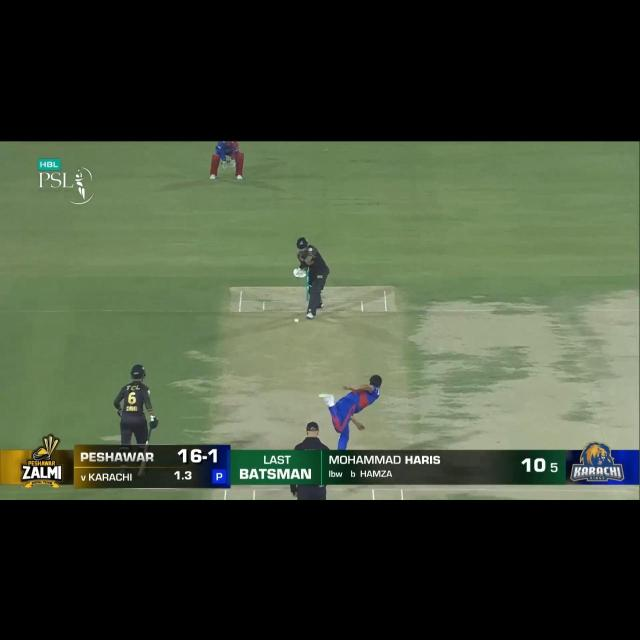bat: (295, 270, 307, 275), (143, 440, 150, 445)
